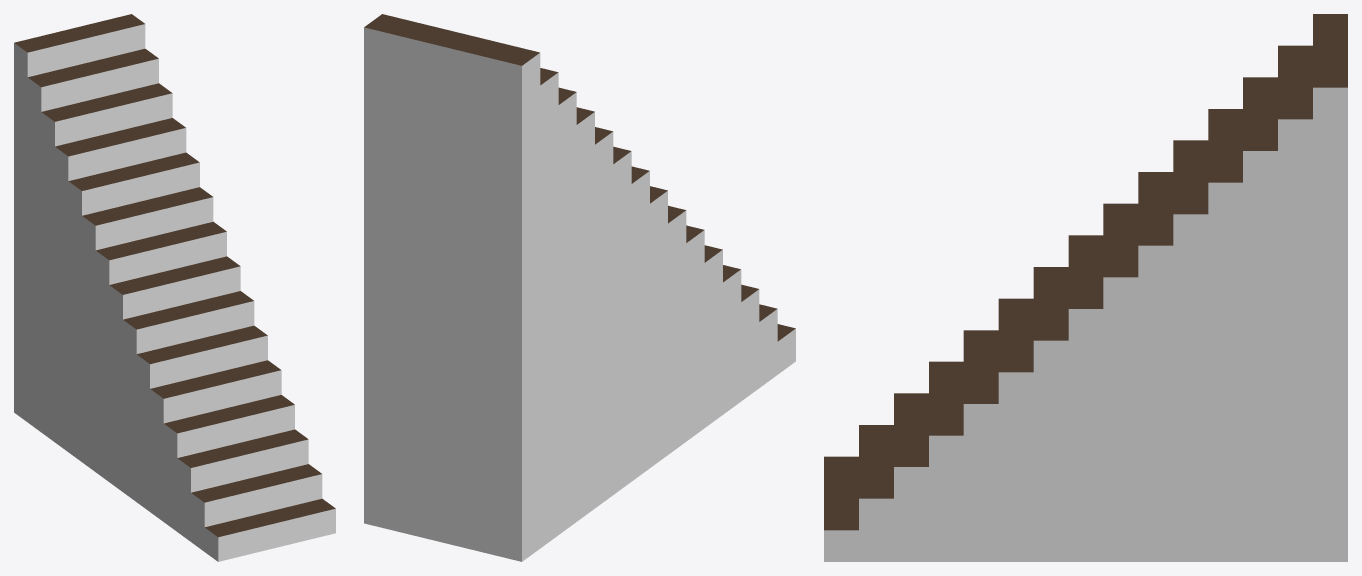
File: stairs-house.glb
The picture shows the model from 3 angles, left to right: view 1: azimuth 30°, elevation 25°; view 2: azimuth 150°, elevation 25°; view 3: azimuth 270°, elevation 25°; orthographic projection. The views are drawn at different scales.
Parts seen in each view (by area): view 1: stairs-house; view 2: stairs-house; view 3: stairs-house.
Part boxes in pixels (x1,y1,x2,y2): stairs-house: (14, 14, 335, 561); stairs-house: (364, 14, 795, 561); stairs-house: (824, 14, 1347, 561).
Size of the model in its own units: 1 by 3 by 3.
Materials: 1 (1 with a texture image).
